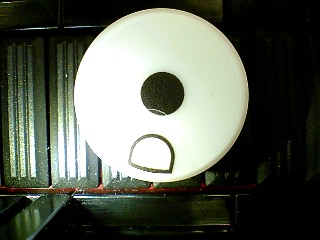BOHOMIPO1: (73, 8, 250, 183)
